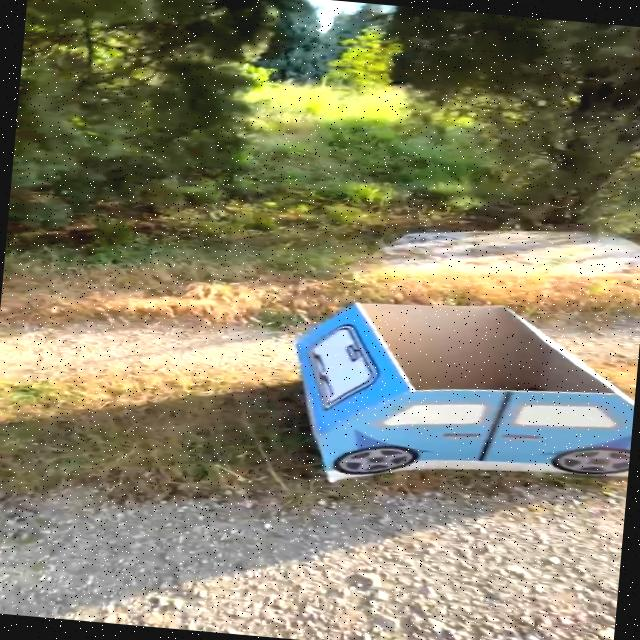blue_car: (213, 237, 640, 522)
